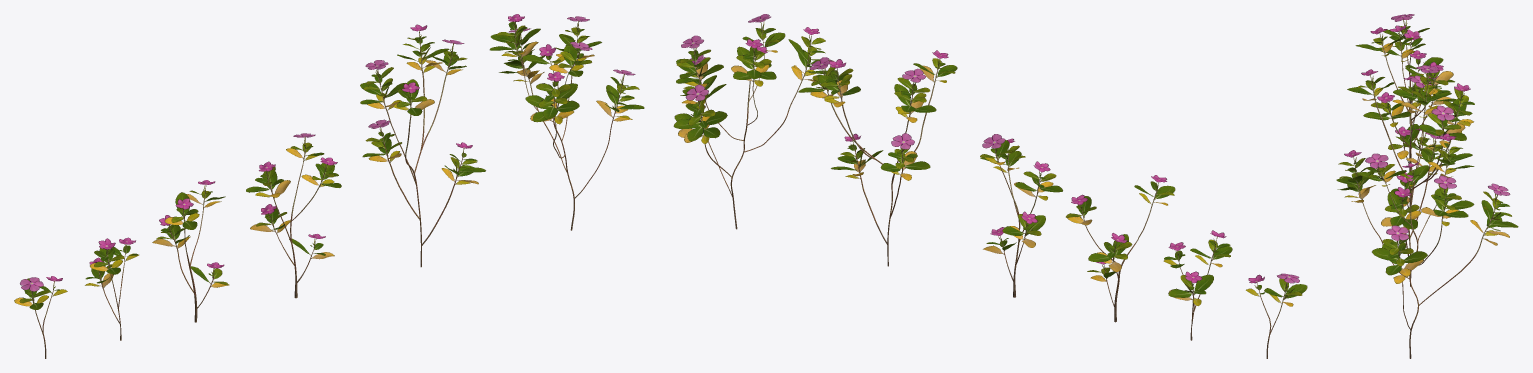
Rendered from eustoma_grandiflorum.glb.
The picture shows the model from 3 angles, left to right: view 1: azimuth 30°, elevation 25°; view 2: azimuth 150°, elevation 25°; view 3: azimuth 270°, elevation 25°; orthographic projection. The views are drawn at different scales.
Parts seen in each view (by area): view 1: periwinkle_plant_01_LOD0, periwinkle_plant_02_LOD0, periwinkle_plant_03_LOD0, periwinkle_plant_04_LOD0, periwinkle_plant_05_LOD0, periwinkle_plant_06_LOD0; view 2: periwinkle_plant_01_LOD0, periwinkle_plant_02_LOD0, periwinkle_plant_03_LOD0, periwinkle_plant_04_LOD0, periwinkle_plant_05_LOD0, periwinkle_plant_06_LOD0; view 3: periwinkle_plant_01_LOD0, periwinkle_plant_02_LOD0, periwinkle_plant_03_LOD0, periwinkle_plant_04_LOD0, periwinkle_plant_05_LOD0, periwinkle_plant_06_LOD0.
Part boxes in pixels (x1,y1,x2,y2): periwinkle_plant_01_LOD0: (489,14,644,230); periwinkle_plant_02_LOD0: (360,24,485,267); periwinkle_plant_03_LOD0: (246,133,341,298); periwinkle_plant_04_LOD0: (152,180,229,322); periwinkle_plant_05_LOD0: (85,237,138,340); periwinkle_plant_06_LOD0: (14,276,67,358); periwinkle_plant_01_LOD0: (673,14,833,229); periwinkle_plant_02_LOD0: (798,50,957,266); periwinkle_plant_03_LOD0: (980,134,1062,297); periwinkle_plant_04_LOD0: (1066,175,1175,322); periwinkle_plant_05_LOD0: (1163,230,1232,340); periwinkle_plant_06_LOD0: (1246,273,1307,358); periwinkle_plant_01_LOD0: (1336,133,1518,358); periwinkle_plant_02_LOD0: (1347,65,1474,286); periwinkle_plant_03_LOD0: (1363,75,1440,207); periwinkle_plant_04_LOD0: (1355,27,1455,171); periwinkle_plant_05_LOD0: (1377,25,1454,123); periwinkle_plant_06_LOD0: (1383,14,1429,103).
Size of the model in its own units: 1.24 by 0.4107 by 0.3207.
Materials: 1 (1 with a texture image).
